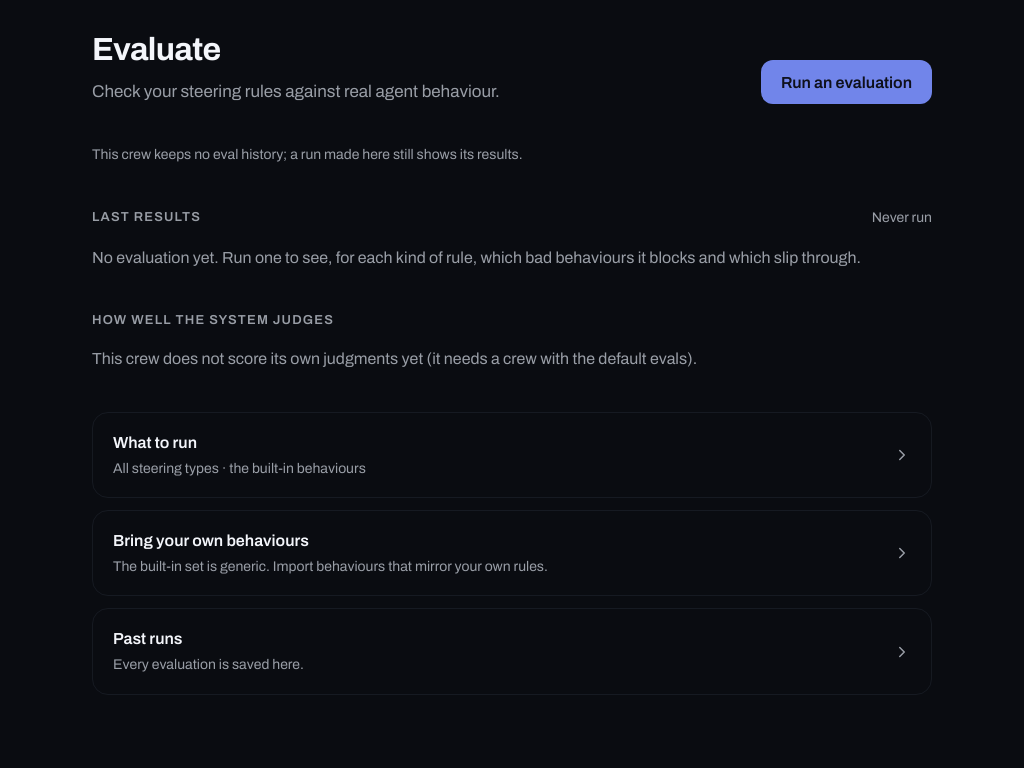
Test: Evals — the run › 501 renders the honest engine-gap callout naming core-ts 0.7.5 — never a raw refusal
Click the button with test id "testing-evals-run": click(846, 82) left=761, top=60, right=932, bottom=104
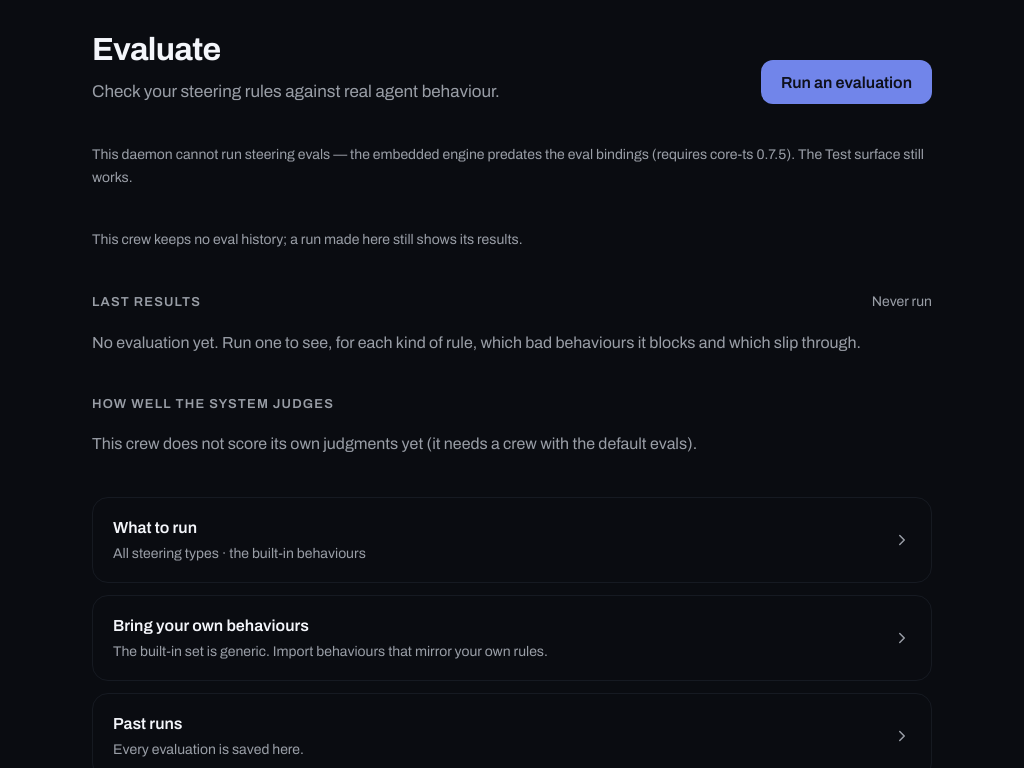
expect the text with test id "testing-evals-unsupported" shows "requires core-ts 0.7.5": met, box left=92, top=147, right=924, bottom=185
